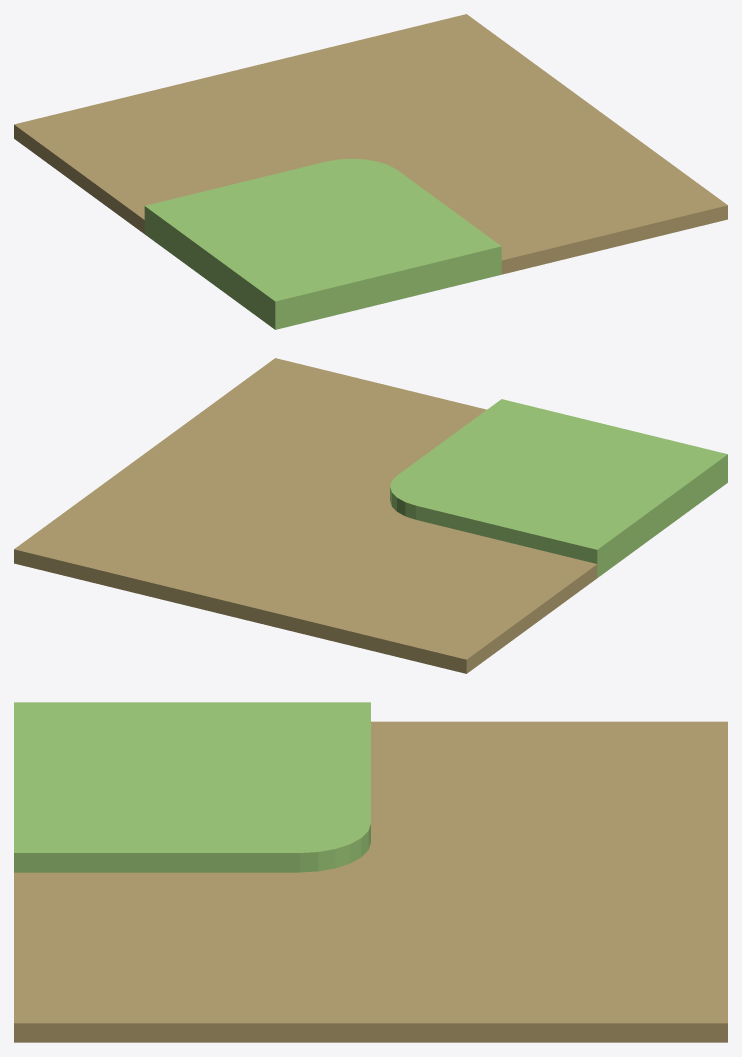
Rendered from Grass_Soil_Tile_5.fbx.
The picture shows the model from 3 angles, top to bottom: view 1: azimuth 30°, elevation 25°; view 2: azimuth 150°, elevation 25°; view 3: azimuth 270°, elevation 25°; orthographic projection. The views are drawn at different scales.
Parts seen in each view (by area): view 1: Base.001; view 2: Base.001; view 3: Base.001.
Part boxes in pixels (left/top/right/bottom): Base.001: left=14, top=14, right=727, bottom=329; Base.001: left=14, top=358, right=727, bottom=673; Base.001: left=14, top=702, right=727, bottom=1042.
Bounding box in the file's own units: 1 × 1 × 0.06.
